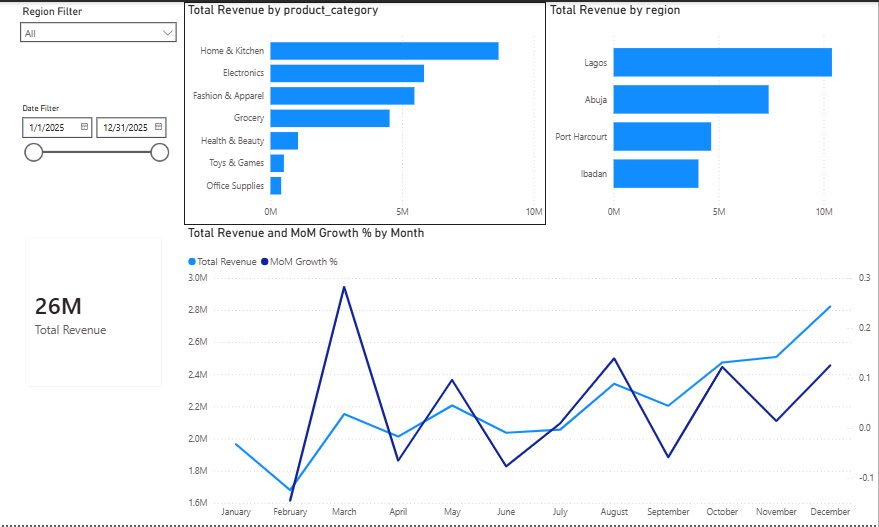

Layout of this report page (visuals, bound fields, positions):
{"tool":"powerbi","page":{"name":"Page 1","canvas":[1280,720],"ordinal":0},"visuals":[{"type":"cardVisual","fields":{"Data":["public CLEANED DATA.Total Revenue"]},"box":[89.5,306.9,223,240.9],"z":0},{"type":"clusteredBarChart","fields":{"Y":["public CLEANED DATA.Total Revenue"],"Category":["public CLEANED DATA.region"]},"box":[823.1,0,456.9,306.9],"z":1000},{"type":"clusteredBarChart","fields":{"Y":["public CLEANED DATA.Total Revenue"],"Category":["public CLEANED DATA.product_category"]},"box":[324.8,0,498.2,306.9],"z":2000},{"type":"lineChart","fields":{"Category":["Date.Month"],"Y":["public CLEANED DATA.Total Revenue"]},"box":[324.8,306.9,955.2,412.9],"z":3000},{"type":"slicer","fields":{"Values":["public CLEANED DATA.region"]},"box":[89.5,0,235.4,75.7],"z":4000},{"type":"slicer","fields":{"Values":["Date.Date"]},"box":[89.5,134.9,223,108.7],"z":5000}]}

Visuals, with their boxes in screenshot pixels (x1, y1, x2, y2):
cardVisual - public CLEANED DATA.Total Revenue: BBox(10, 223, 173, 399)
clusteredBarChart - public CLEANED DATA.Total Revenue x public CLEANED DATA.region: BBox(544, 0, 877, 223)
clusteredBarChart - public CLEANED DATA.Total Revenue x public CLEANED DATA.product_category: BBox(181, 0, 544, 223)
lineChart - Date.Month x public CLEANED DATA.Total Revenue: BBox(181, 223, 877, 524)
slicer - public CLEANED DATA.region: BBox(10, 0, 182, 55)
slicer - Date.Date: BBox(10, 98, 173, 177)
